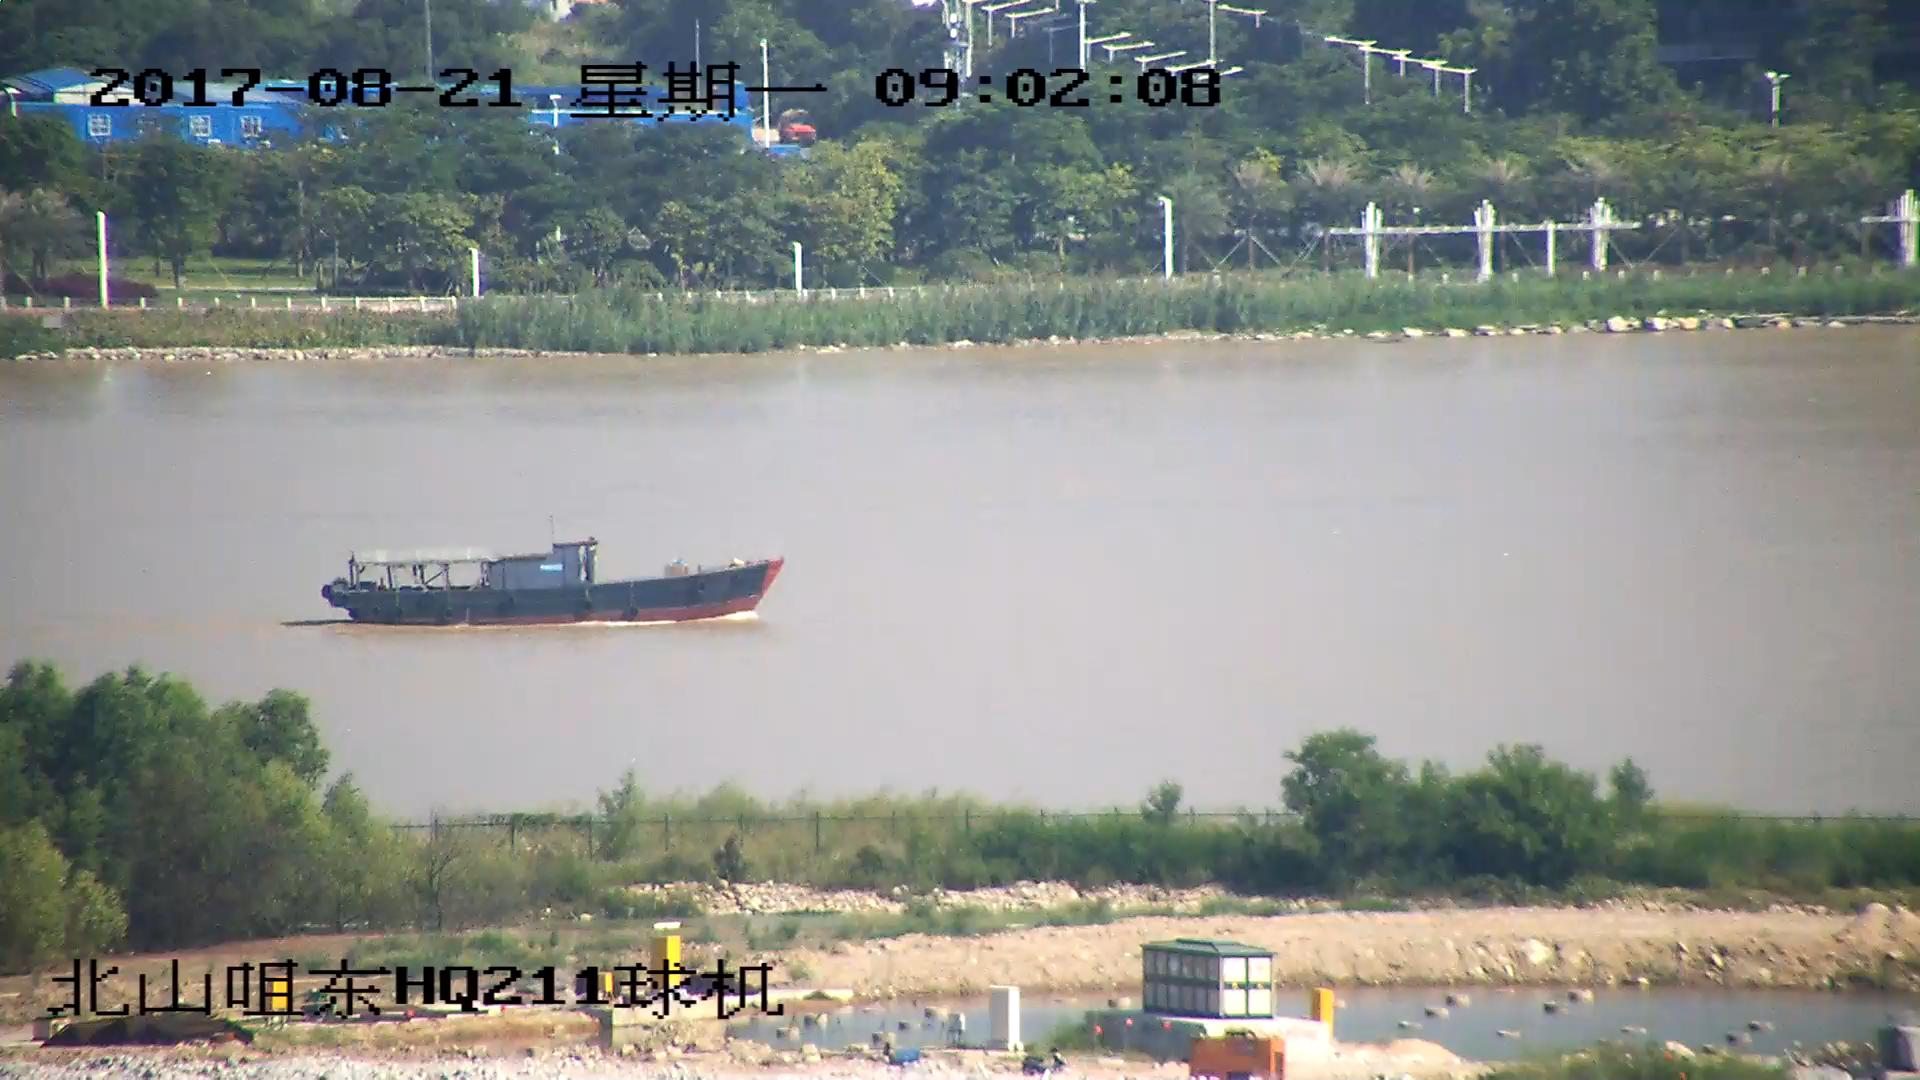fishing boat: (325, 538, 787, 627)
